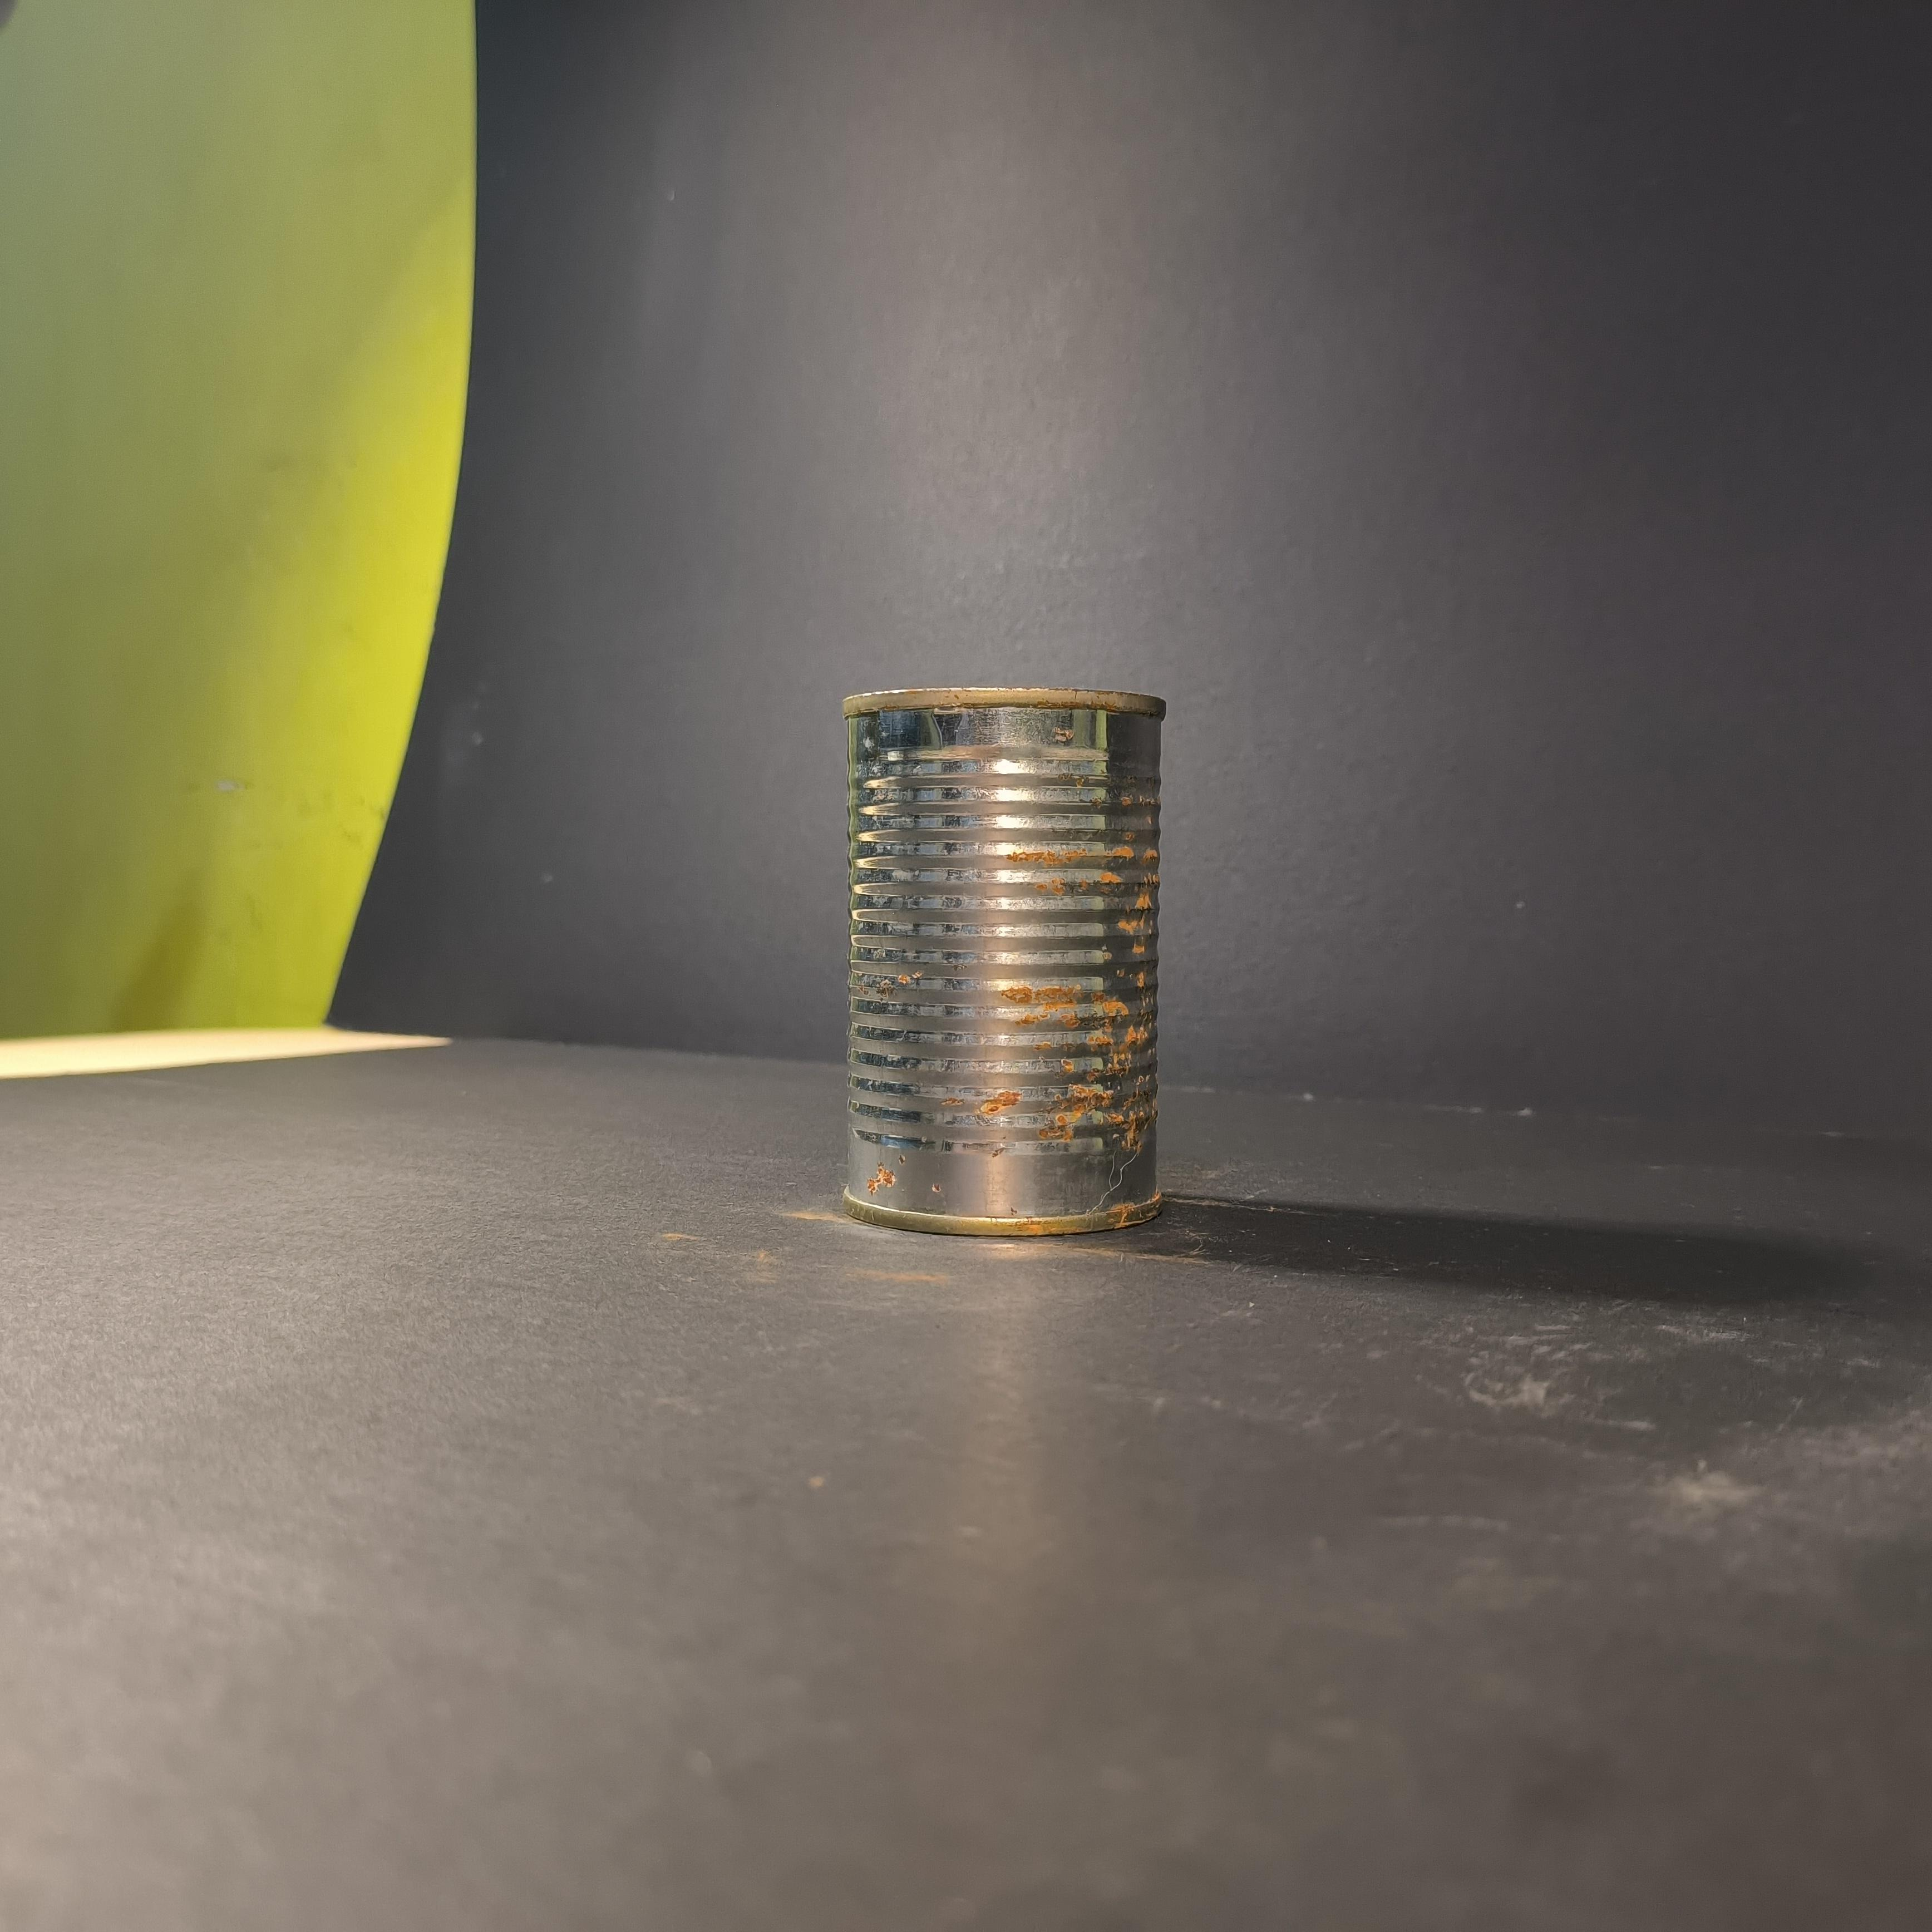Rusted: (817, 665, 1191, 1279)
